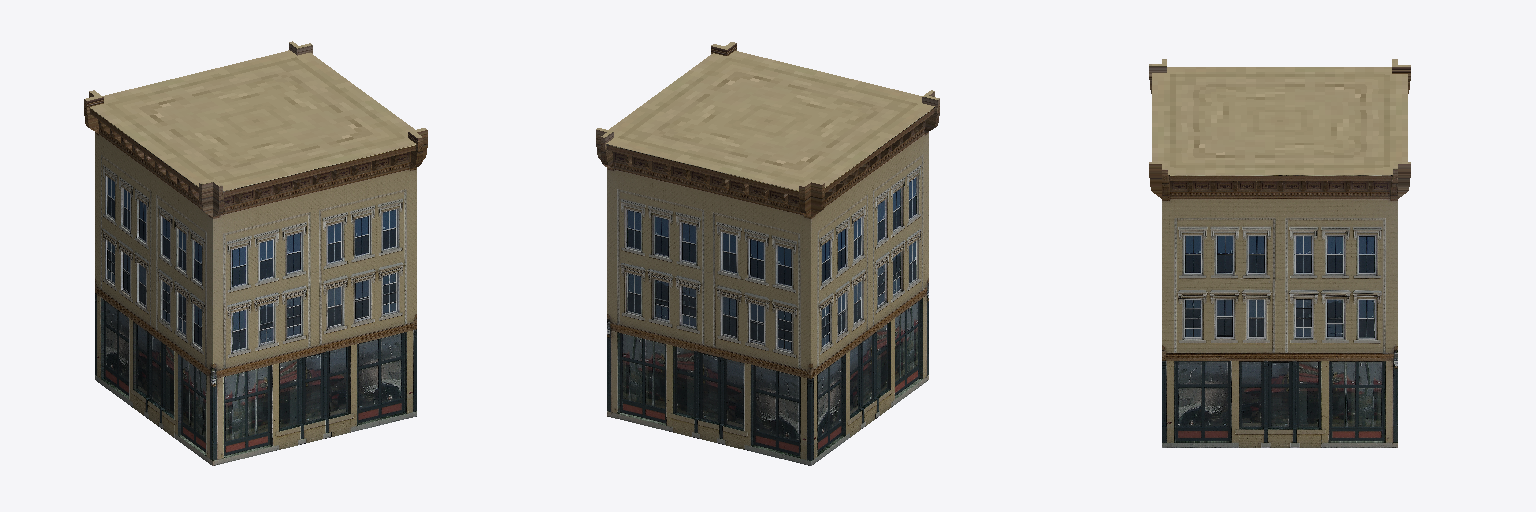
3 views of the same model, side by side, from view 1: azimuth 30°, elevation 25°; view 2: azimuth 150°, elevation 25°; view 3: azimuth 270°, elevation 25° (orthographic).
Parts seen in each view (by area): view 1: Plane01; view 2: Plane01; view 3: Plane01.
Part boxes in pixels (x1,y1,x2,y2): Plane01: (84, 41, 427, 465); Plane01: (596, 42, 939, 465); Plane01: (1149, 59, 1410, 447).
Size of the model in its own units: 2199 by 2640 by 2199.
1 materials, 1 textured.